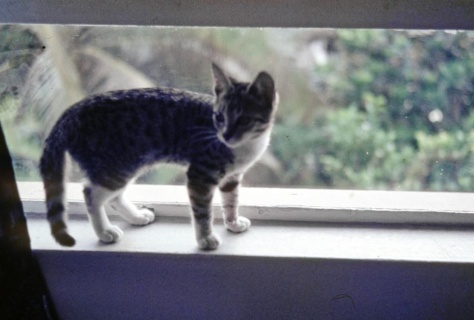Cat: (37, 62, 279, 248)
